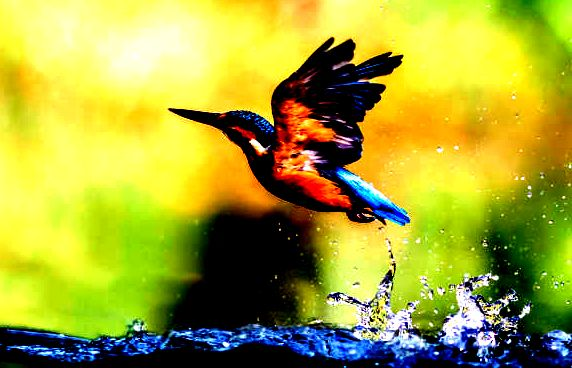Bird: (162, 34, 412, 230)
